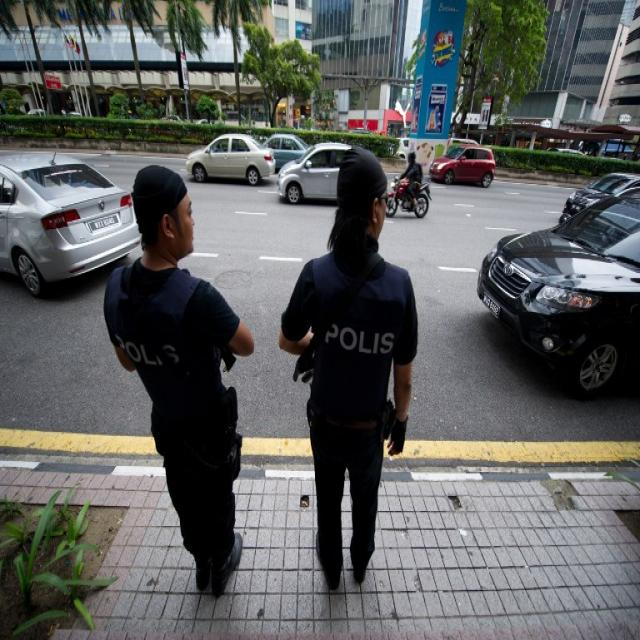Person: (99, 164, 260, 607), (272, 133, 422, 606)
